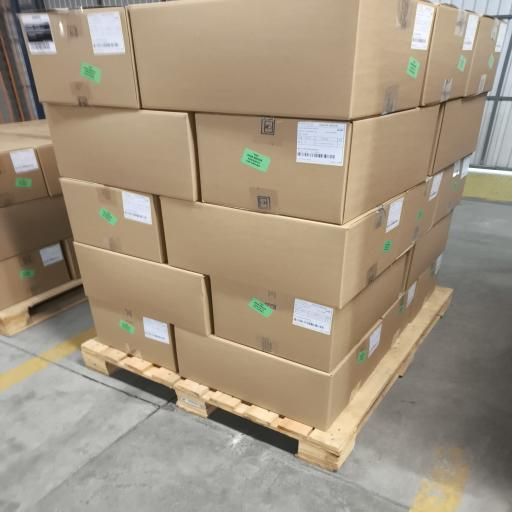pallet: (82, 287, 452, 470), (0, 279, 87, 335)
